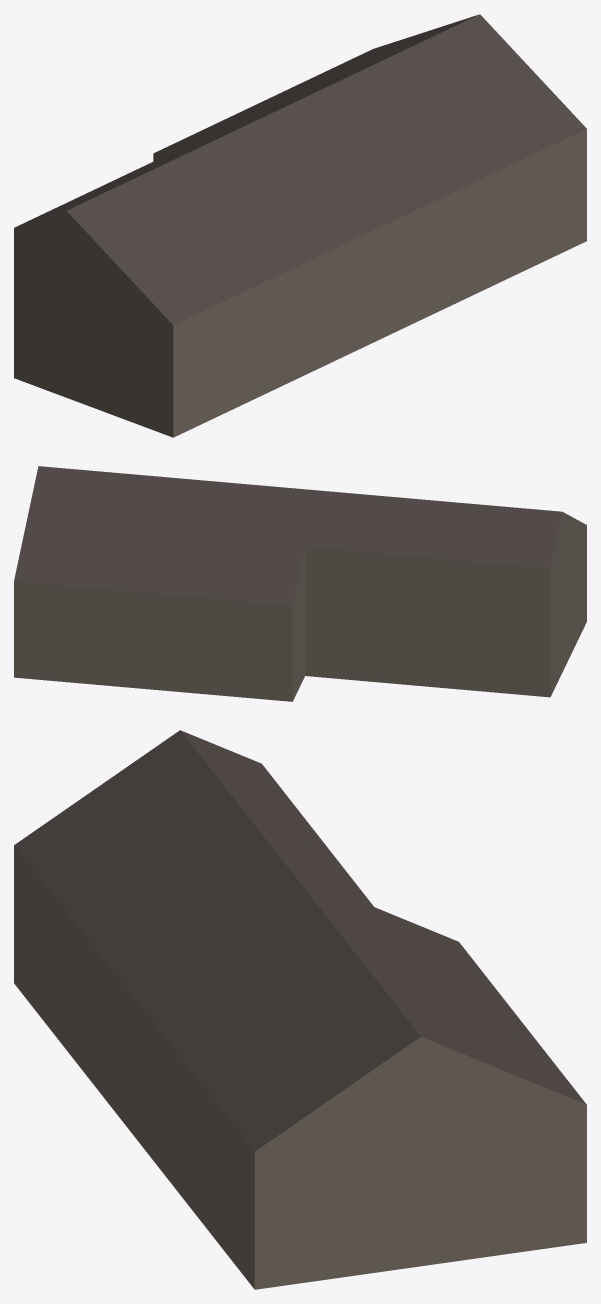
The picture shows the model from 3 angles, top to bottom: view 1: azimuth 30°, elevation 25°; view 2: azimuth 150°, elevation 25°; view 3: azimuth 270°, elevation 25°; orthographic projection. The views are drawn at different scales.
Parts seen in each view (by area): view 1: HP-w408450798; view 2: HP-w408450798; view 3: HP-w408450798.
Boxes of the visible parts, x1,y1,x2,y2 form: HP-w408450798: (14,14,586,437); HP-w408450798: (14,466,586,701); HP-w408450798: (14,730,586,1289).
Bounding box in the file's own units: 31.86 × 9.99 × 22.58.
